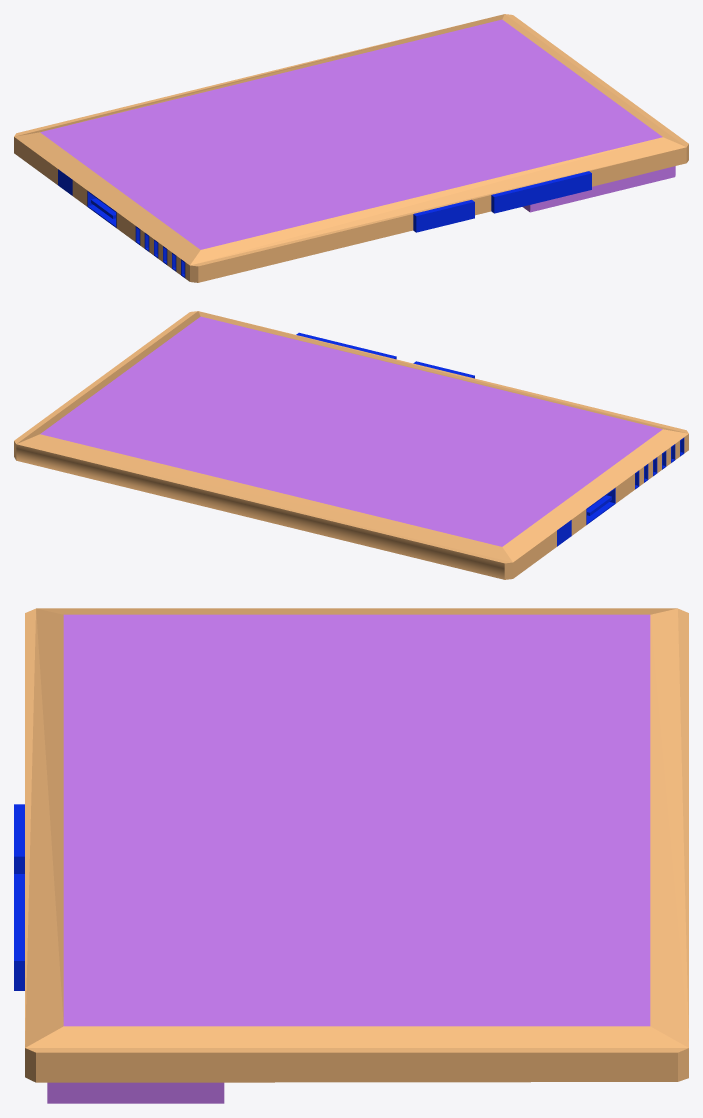
Rendered from SM_Phone_A.fbx.
3 renders of one model, top to bottom at view 1: azimuth 30°, elevation 25°; view 2: azimuth 150°, elevation 25°; view 3: azimuth 270°, elevation 25°, orthographic. The views are drawn at different scales.
Visible parts, largest first — view 1: SM_Phone_A; view 2: SM_Phone_A; view 3: SM_Phone_A.
Part boxes in pixels (<box>): SM_Phone_A: <box>14,14,688,282</box>; SM_Phone_A: <box>14,311,688,579</box>; SM_Phone_A: <box>14,608,688,1103</box>.
Size of the model in its own units: 6.34 by 0.467 by 4.07.
